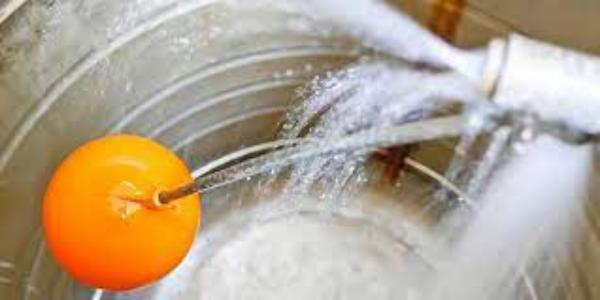water: (441, 50, 567, 178)
